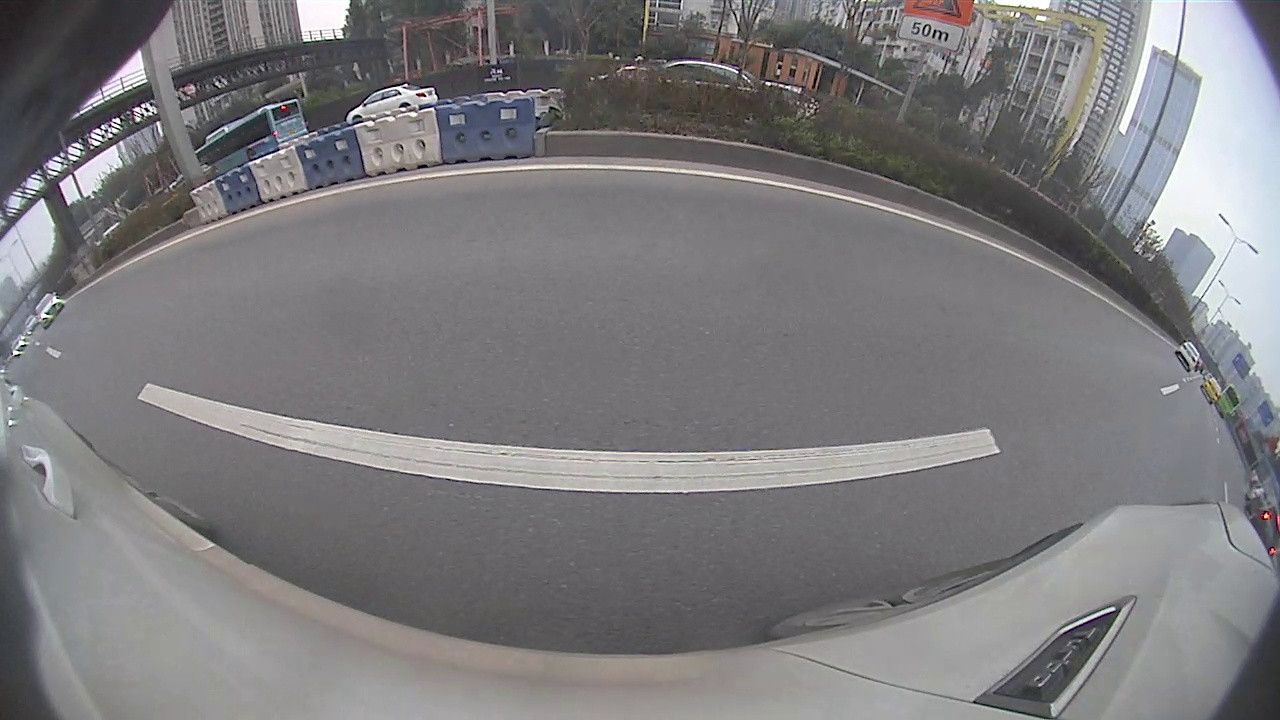car: (32, 290, 68, 331), (1173, 338, 1204, 375), (1199, 376, 1223, 406)
